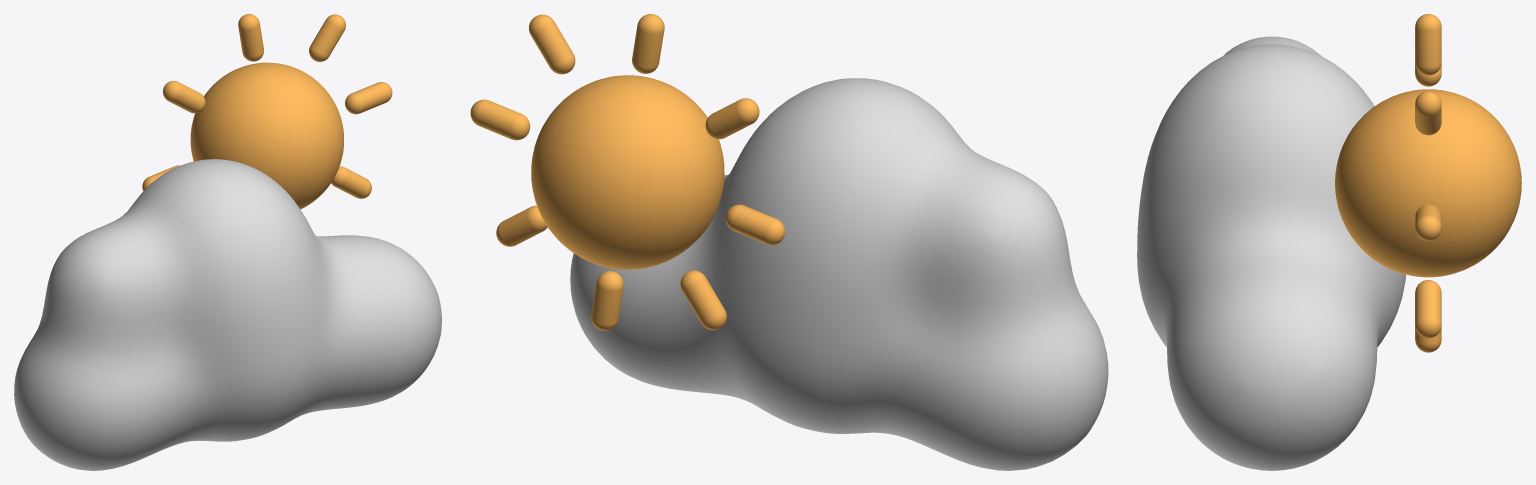
File: cloudy.glb
3 renders of one model, left to right at view 1: azimuth 30°, elevation 25°; view 2: azimuth 150°, elevation 25°; view 3: azimuth 270°, elevation 25°, orthographic. The views are drawn at different scales.
Visible parts, largest first — view 1: 0006; view 2: 0006; view 3: 0006.
Part boxes in pixels (bbox=[...]): 0006: bbox=[14, 14, 441, 470]; 0006: bbox=[470, 14, 1108, 470]; 0006: bbox=[1137, 14, 1521, 470].
Bounding box in the file's own units: 2.48 × 1.92 × 1.58.
